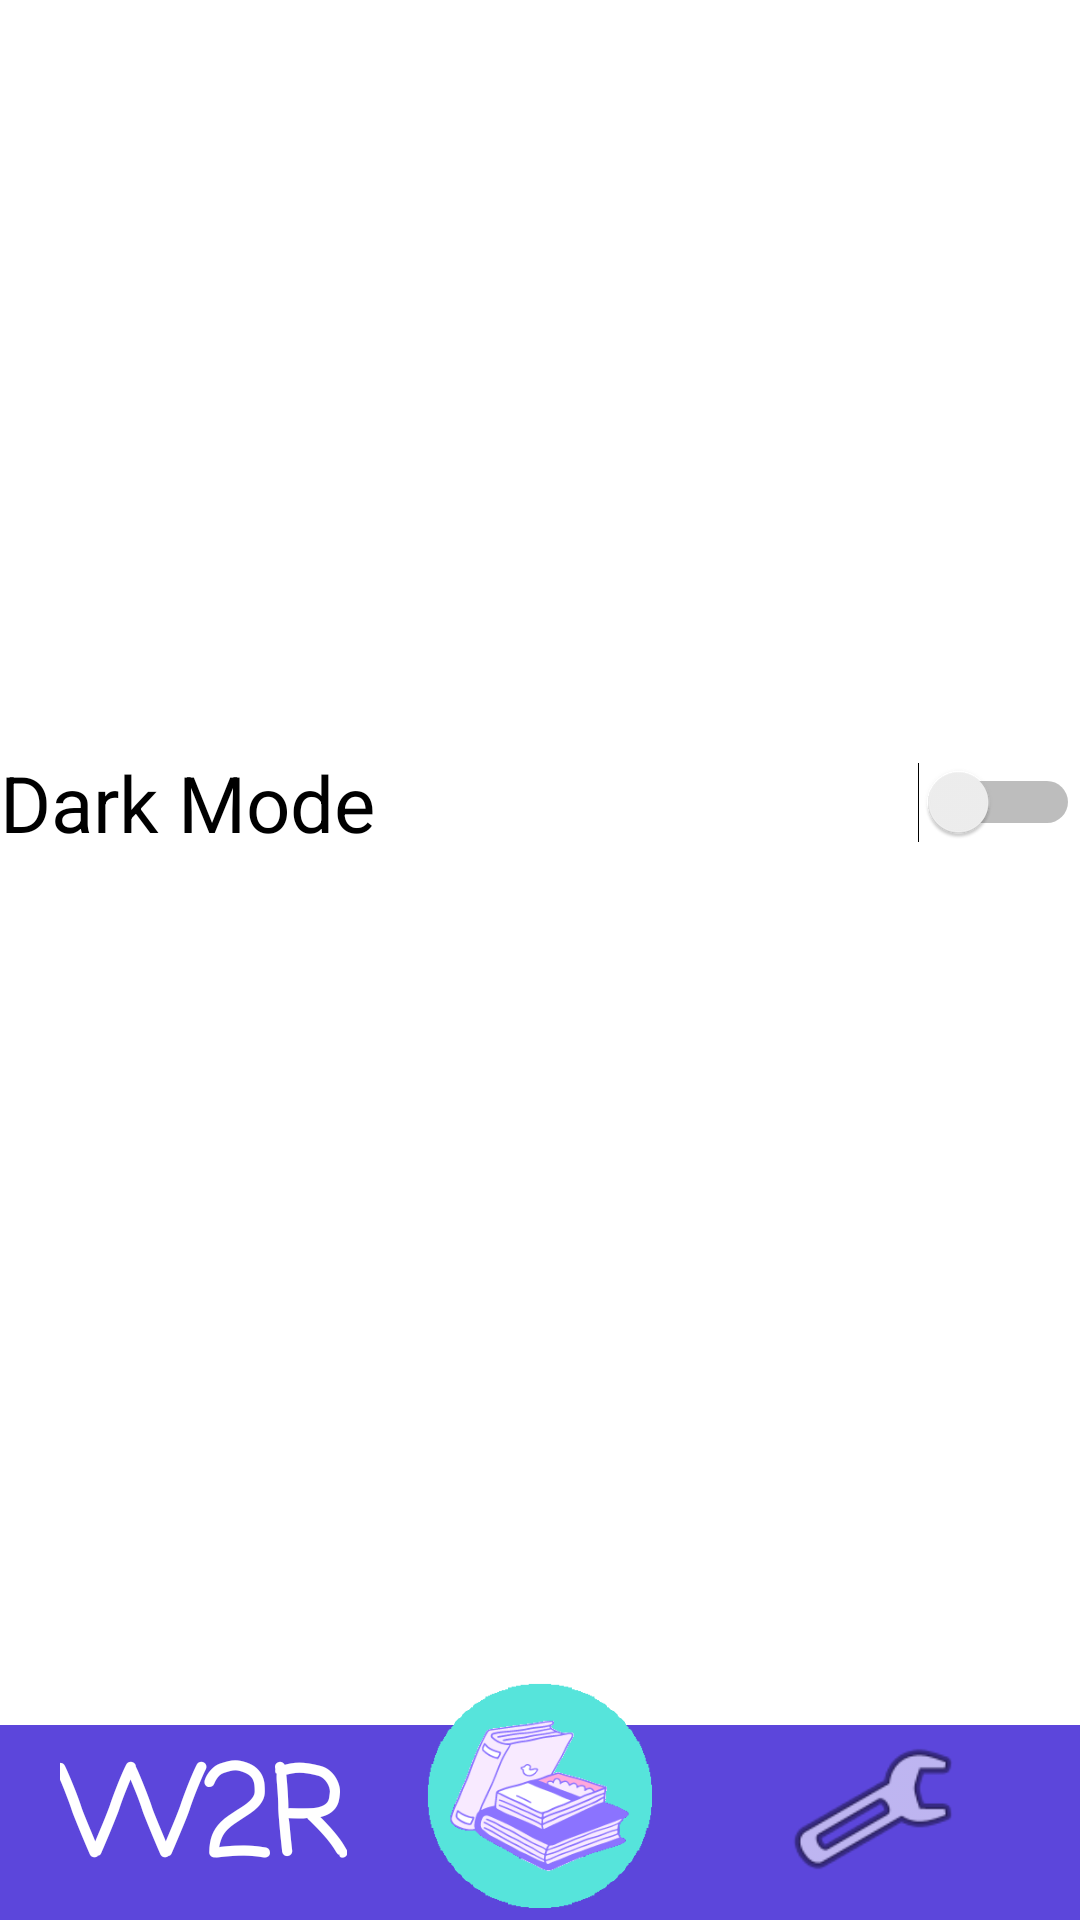

Named icons in this screenshot (1080x1920) and their bounding boxes, region(x1, y1, x2, y2):
manage: region(794, 1749, 951, 1869)
